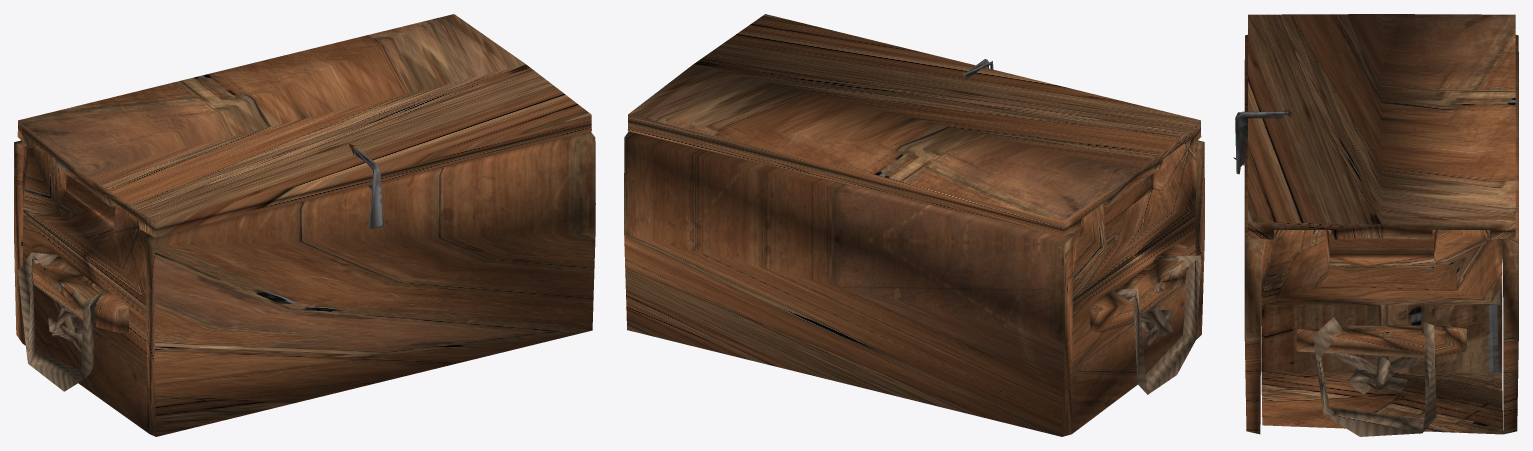
The model's file is wooden_crate_01_opt.gltf.
3 renders of one model, left to right at view 1: azimuth 30°, elevation 25°; view 2: azimuth 150°, elevation 25°; view 3: azimuth 270°, elevation 25°, orthographic. The views are drawn at different scales.
Parts seen in each view (by area): view 1: wooden_crate_01, wooden_crate_01_lid, wooden_crate_01_latch; view 2: wooden_crate_01, wooden_crate_01_lid; view 3: wooden_crate_01_lid, wooden_crate_01, wooden_crate_01_latch.
Part boxes in pixels (left/top/right/bottom): wooden_crate_01: left=14, top=131, right=595, bottom=436; wooden_crate_01_lid: left=17, top=14, right=591, bottom=237; wooden_crate_01_latch: left=354, top=147, right=383, bottom=228; wooden_crate_01: left=624, top=131, right=1204, bottom=436; wooden_crate_01_lid: left=627, top=14, right=1201, bottom=237; wooden_crate_01_lid: left=1248, top=14, right=1515, bottom=239; wooden_crate_01: left=1233, top=34, right=1518, bottom=436; wooden_crate_01_latch: left=1235, top=111, right=1288, bottom=174.
Bounding box in the file's own units: 0.818 × 0.3432 × 0.4019.
Materials: 1 (1 with a texture image).
